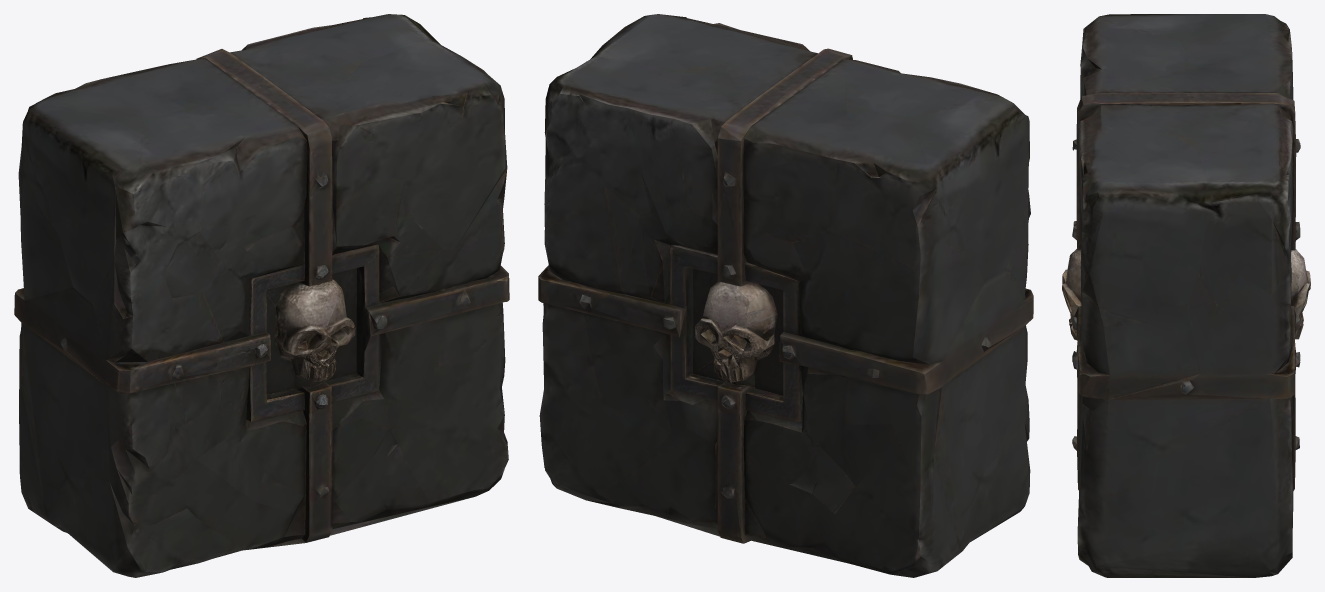
Rendered from floor_basalt.glb.
3 renders of one model, left to right at view 1: azimuth 30°, elevation 25°; view 2: azimuth 150°, elevation 25°; view 3: azimuth 270°, elevation 25°, orthographic. The views are drawn at different scales.
Visible parts, largest first — view 1: Mesh_0; view 2: Mesh_0; view 3: Mesh_0.
Boxes of the visible parts, x1,y1,x2,y2 form: Mesh_0: [14, 14, 509, 577]; Mesh_0: [538, 14, 1033, 577]; Mesh_0: [1062, 14, 1310, 577].
Size of the model in its own units: 1.9 by 1.88 by 1.06.
Materials: 1 (1 with a texture image).
